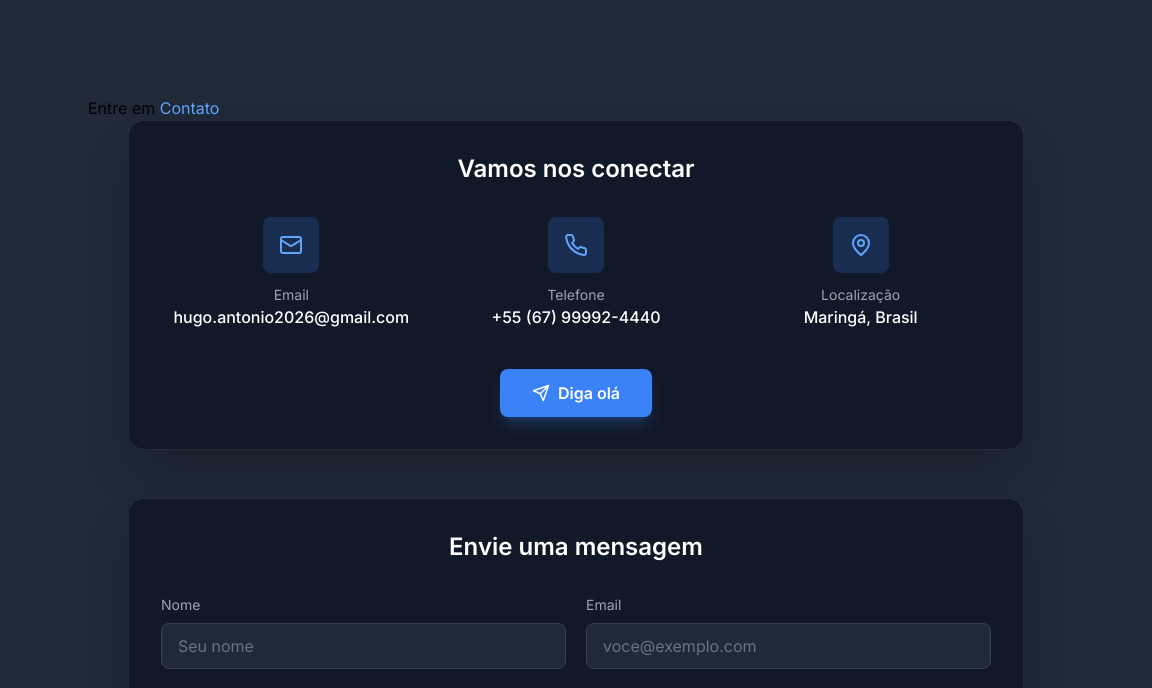
Test: Contact form › submits the message to /api/messages and shows a success state
The image size is (1152, 688).
Type "Hugo" into the field labelled "Nome" at (364, 646), box 161,623 -> 566,669
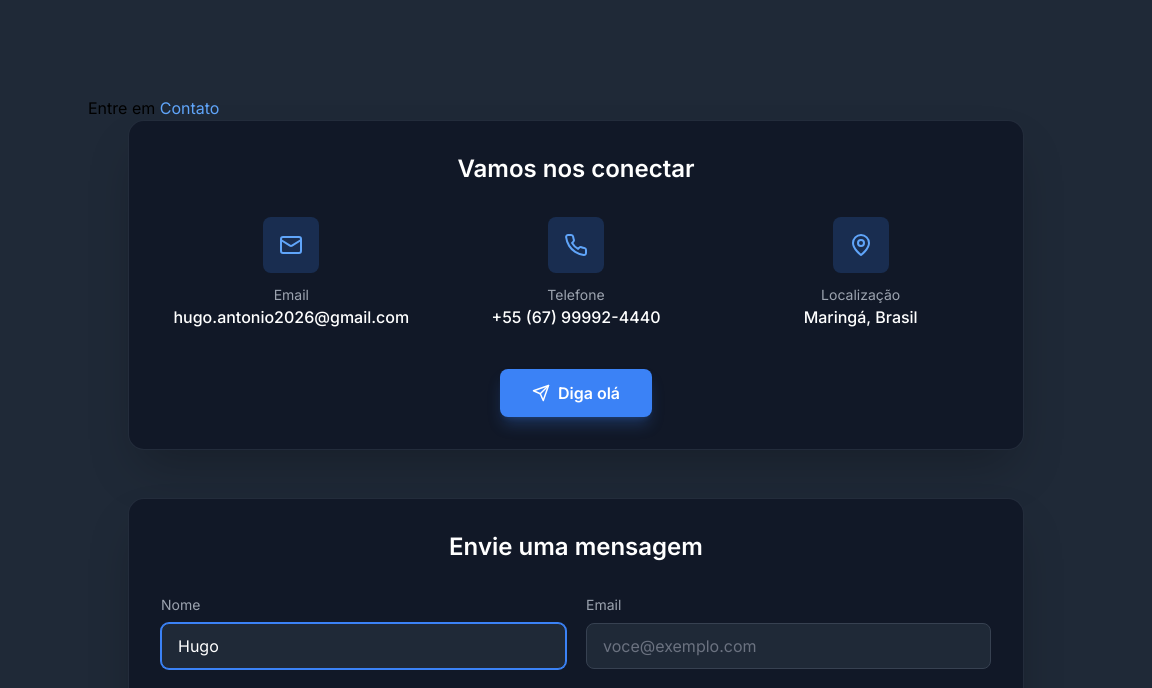
Type "hugo@example.com" into the field labelled "Email" at (788, 646), box 586,623 -> 991,669
(page scrolled)
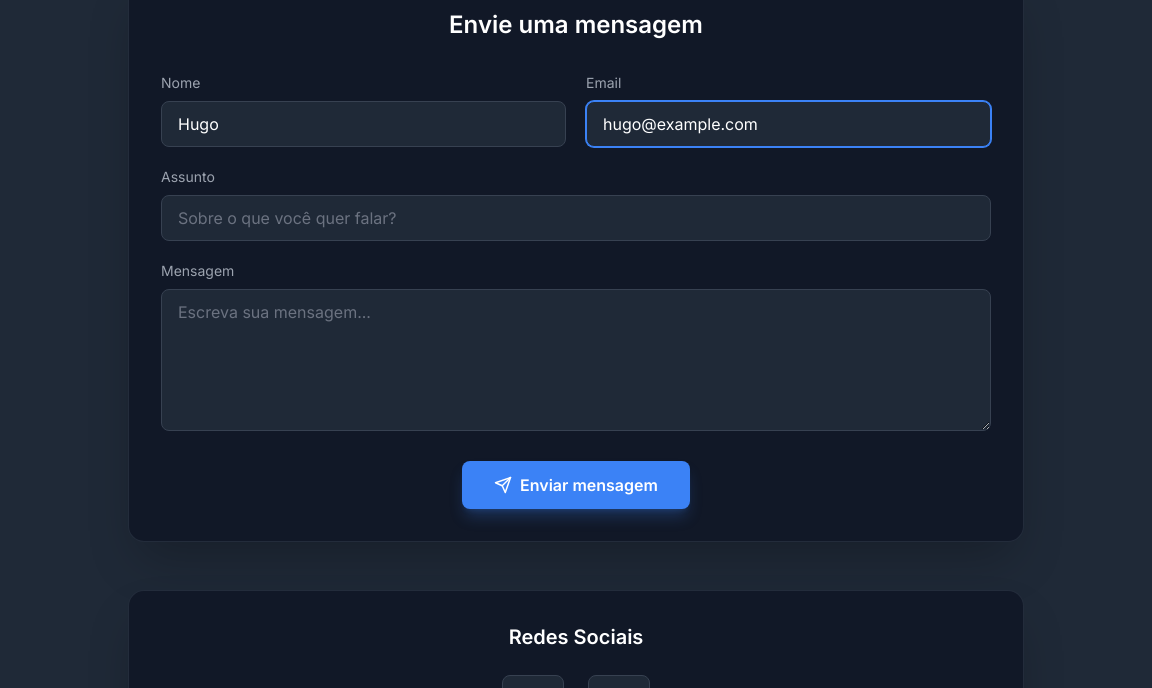
Type "Olá, tudo bem?" into the text box labelled "Mensagem" at (576, 360), box 161,289 -> 991,431
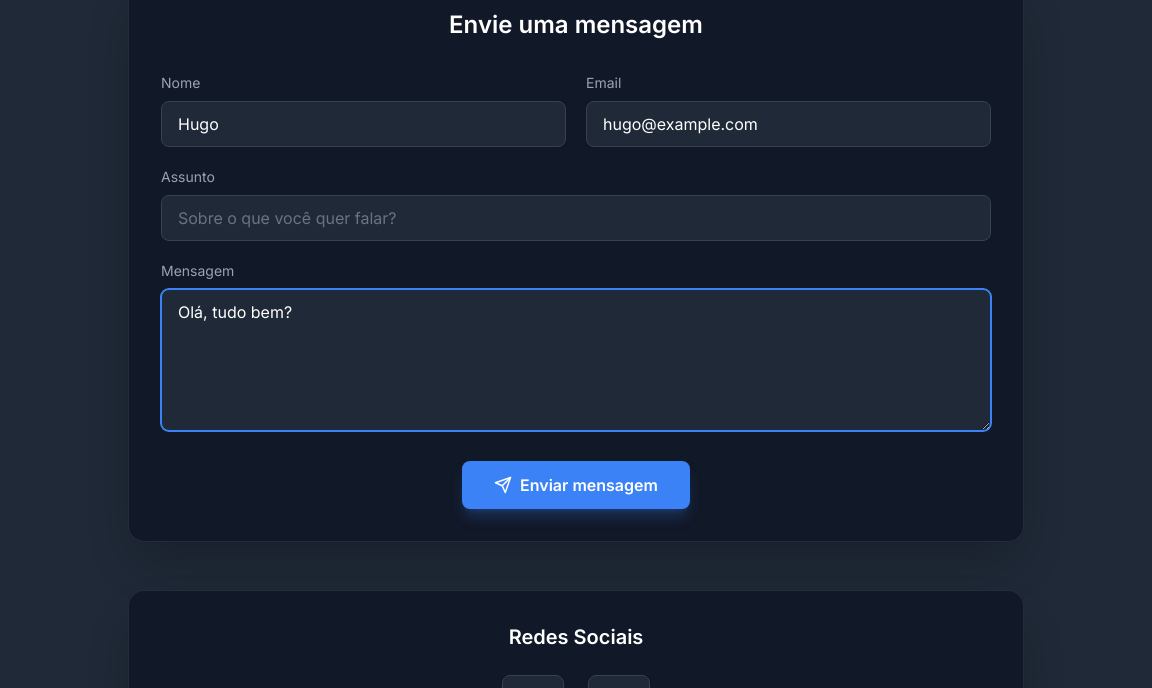
Click the button "Enviar mensagem" at (576, 485), box 462,461 -> 690,509
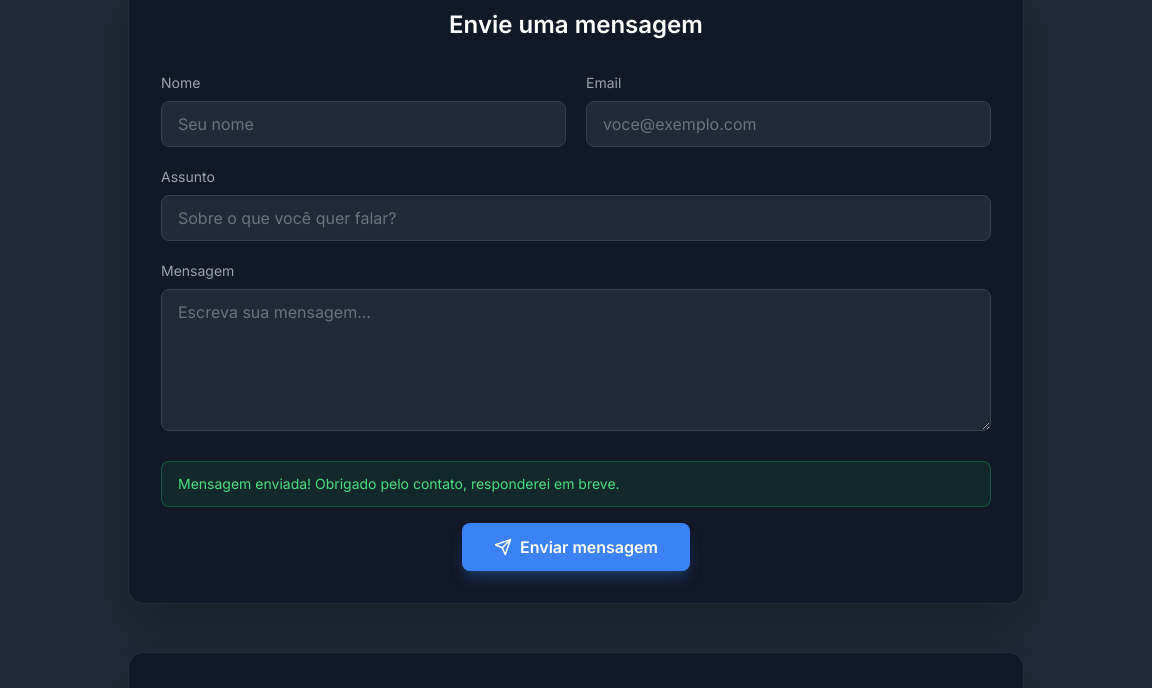
Now the text "Mensagem enviada! Obrigado pelo contato, responderei em breve." is shown, box 161,461 -> 991,507
